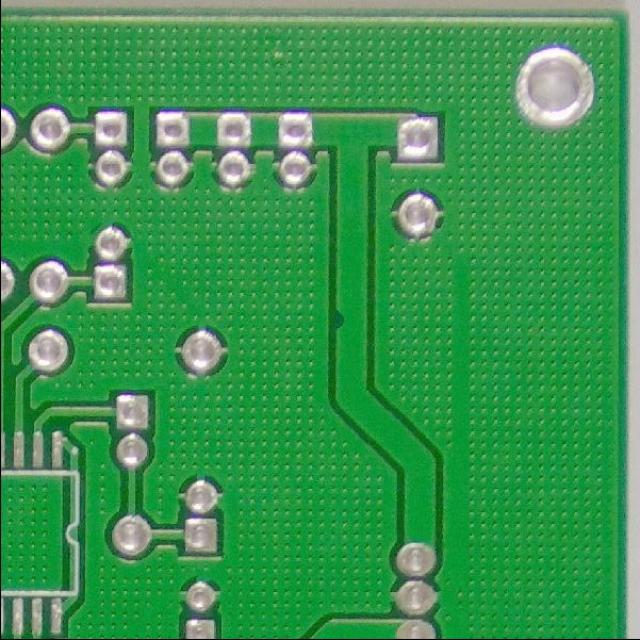mouse_bite: (327, 300, 353, 340)
